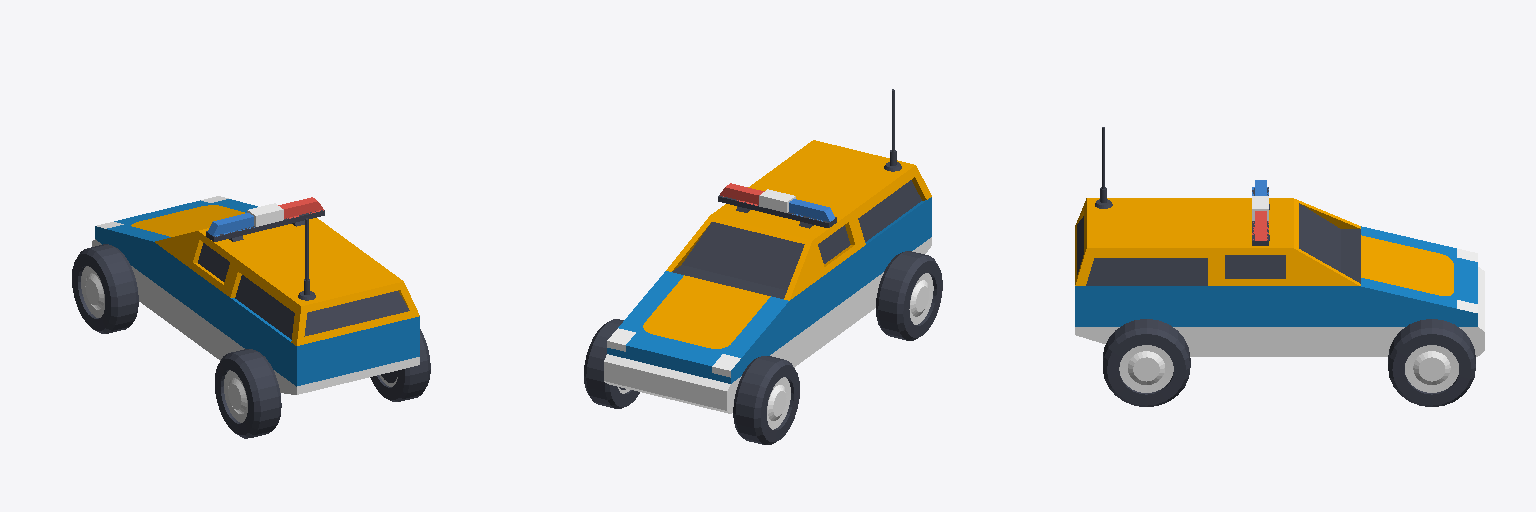
File: PoliceCar.obj
3 renders of one model, left to right at view 1: azimuth 30°, elevation 25°; view 2: azimuth 150°, elevation 25°; view 3: azimuth 270°, elevation 25°, orthographic.
Bounding box in the file's own units: 1.43 × 1.71 × 2.87.